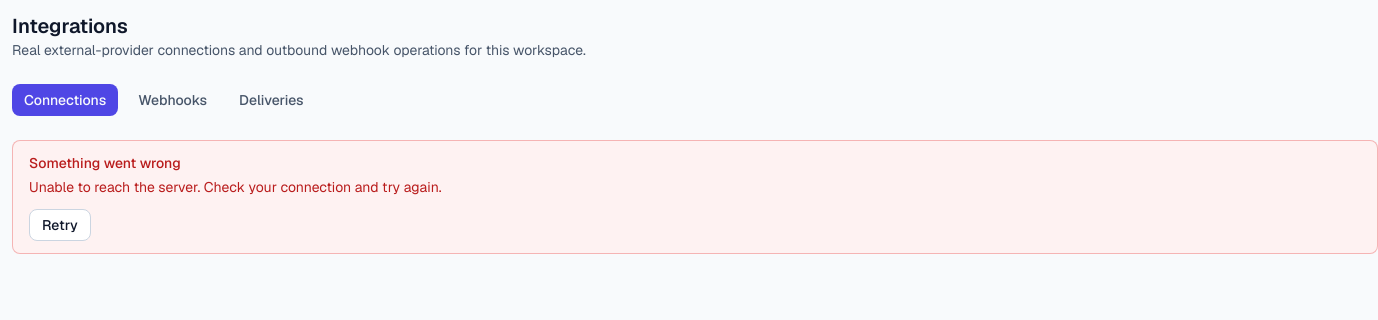
Test: IntegrationsListPage › shows a network-error state (not empty) and recovers via Retry
The image size is (1378, 320).
expect the text "Something went wrong" is shown: met, box top-left (29, 154), bottom-right (181, 172)
Click the button "Retry" at (60, 225), box top-left (29, 209), bottom-right (91, 241)
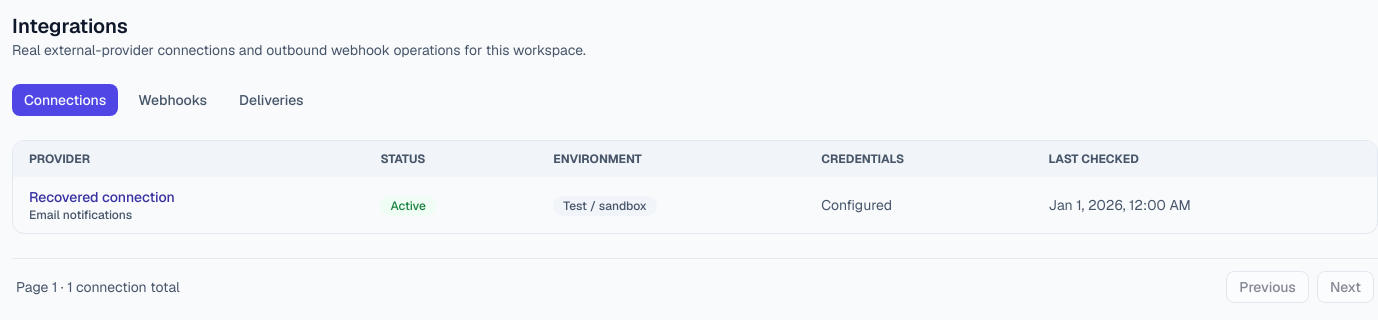
expect the link "Recovered connection" is shown: met, box top-left (29, 188), bottom-right (175, 206)
